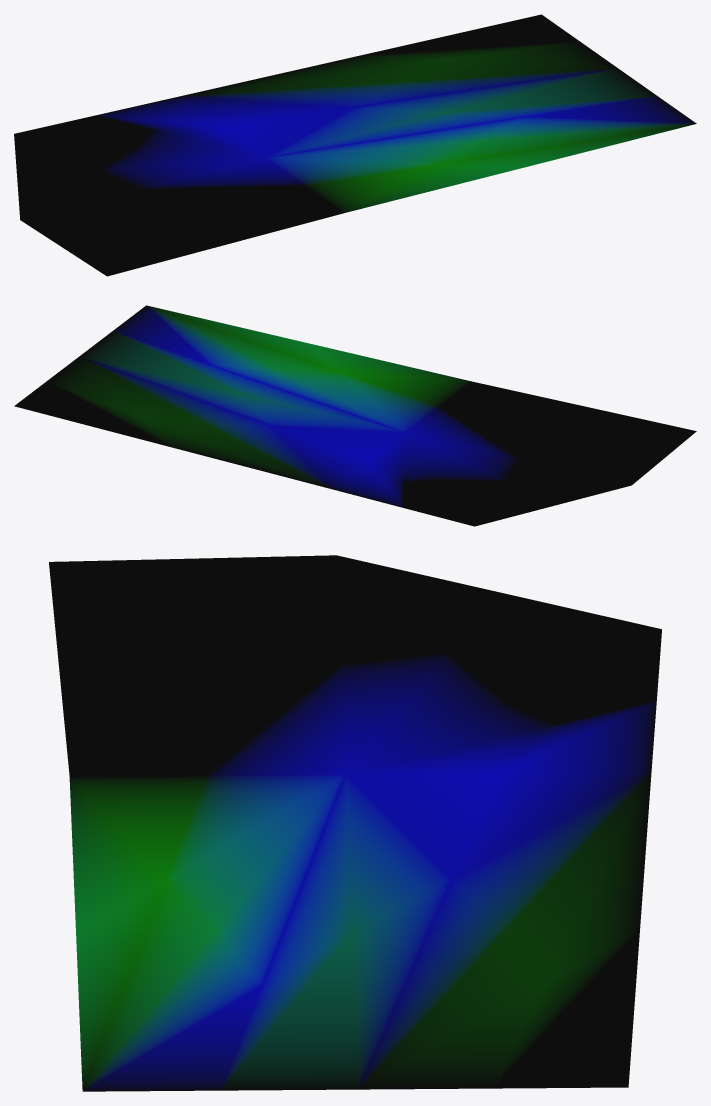
3 renders of one model, top to bottom at view 1: azimuth 30°, elevation 25°; view 2: azimuth 150°, elevation 25°; view 3: azimuth 270°, elevation 25°, orthographic. The views are drawn at different scales.
Visible parts, largest first — view 1: Sprite; view 2: Sprite; view 3: Sprite.
Boxes of the visible parts, x1,y1,x2,y2 form: Sprite: [14, 14, 696, 276]; Sprite: [14, 305, 696, 526]; Sprite: [49, 555, 661, 1091].
Bounding box in the file's own units: 1093 × 0.5665 × 529.
